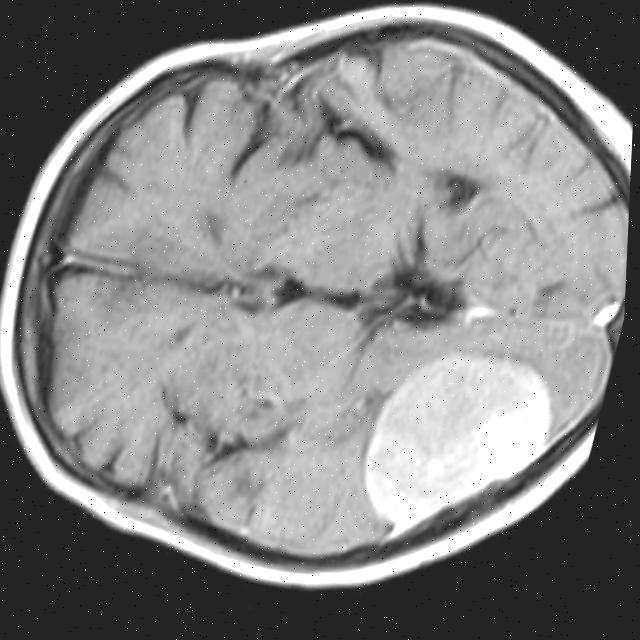Meningioma: (346, 329, 566, 558)
